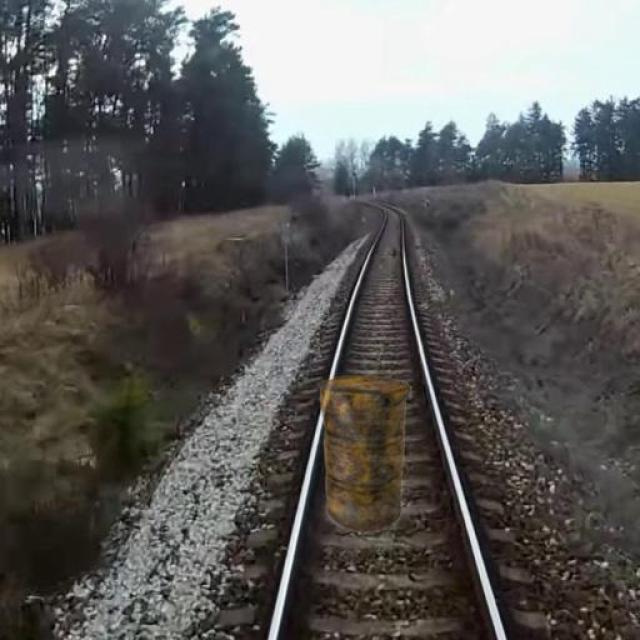Other_objects: (313, 376, 420, 529)
